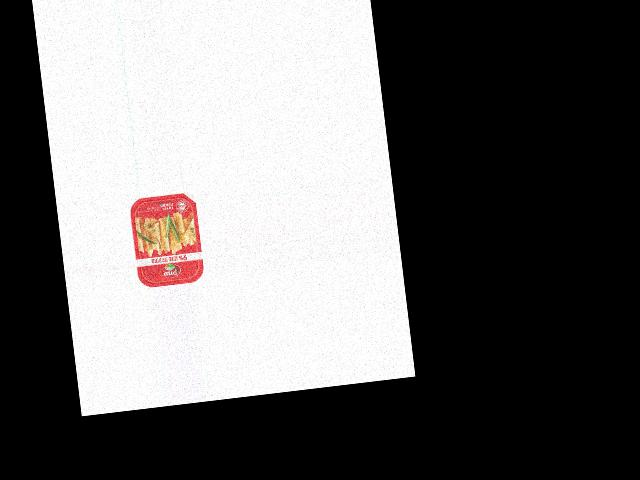cheese: (127, 191, 204, 289)
